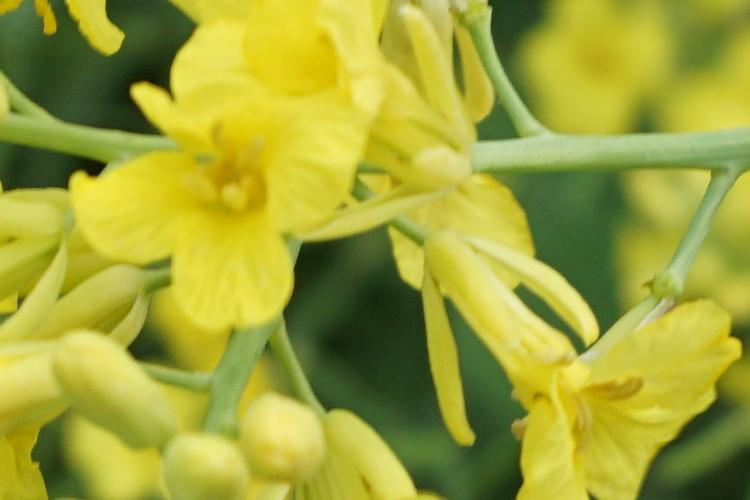bud: (64, 344, 177, 446), (149, 419, 245, 496), (236, 401, 331, 476)
yellow: (420, 245, 720, 489), (89, 83, 345, 307), (217, 9, 494, 153)
